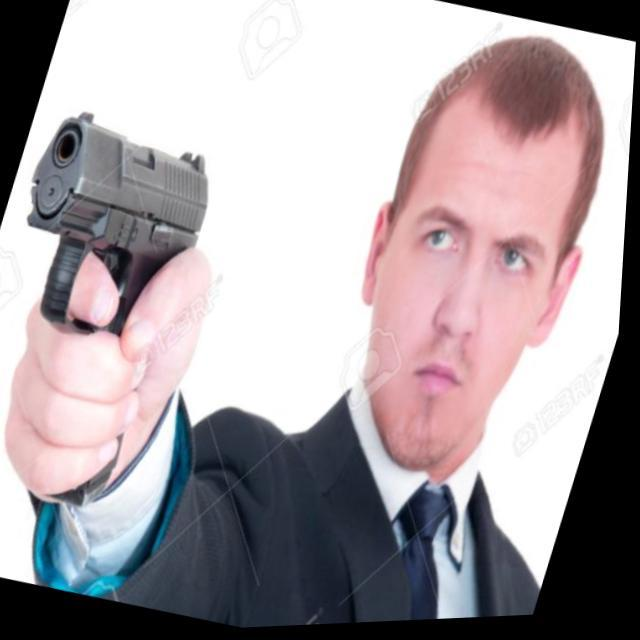weapon: (0, 97, 233, 522)
